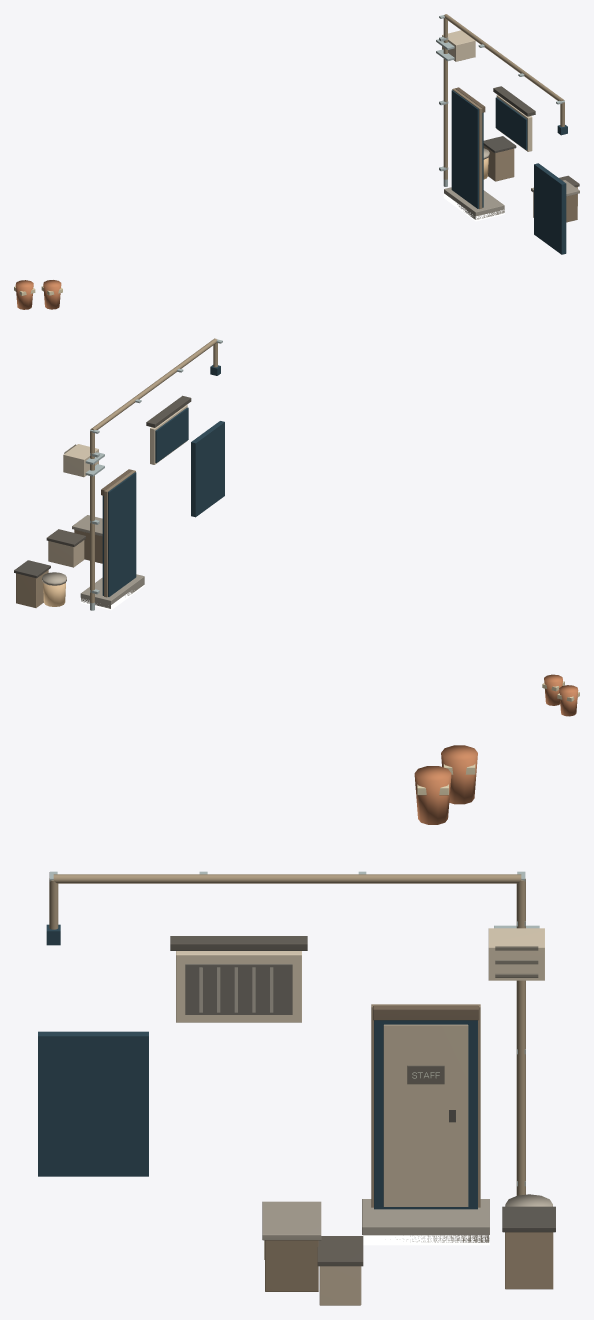
Rendered from side-alley.glb.
3 views of the same model, one above another, from view 1: azimuth 30°, elevation 25°; view 2: azimuth 150°, elevation 25°; view 3: azimuth 270°, elevation 25° (orthographic). The views are drawn at different scales.
Visible parts, largest first — view 1: Assembly | Side wall mounting backing.004, Web | SideAlley/0016.001, Web | SideAlley/0008.001, Web | SideAlley/0032.001, Web | SideAlley/0007.001, Web | SideAlley/0030.001, Web | SideAlley/0001.001, Assembly | Rear service box cantilever.002, Web | SideAlley/0015.001; view 2: Assembly | Side wall mounting backing.004, Web | SideAlley/0016.001, Web | SideAlley/0008.001, Web | SideAlley/0032.001, Web | SideAlley/0030.001, Web | SideAlley/0007.001, Web | SideAlley/0025.001, Web | SideAlley/0001.001, Assembly | Rear service box cantilever.002, Web | SideAlley/0015.001, Web | SideAlley/0028.001; view 3: Assembly | Side wall mounting backing.004, Web | SideAlley/0002.001, Web | SideAlley/0016.001, Web | SideAlley/0008.001, Web | SideAlley/0009.001, Web | SideAlley/0007.001, Web | SideAlley/0032.001, Web | SideAlley/0030.001, Web | SideAlley/0023.001, Web | SideAlley/0024.001, Web | SideAlley/0015.001, Web | SideAlley/0025.001 (+7 smaller).
Boxes of the visible parts, x1=… form: Assembly | Side wall mounting backing.004: x1=451, y1=90, x2=567, y2=254; Web | SideAlley/0016.001: x1=443, y1=14, x2=564, y2=179; Web | SideAlley/0008.001: x1=442, y1=30, x2=532, y2=151; Web | SideAlley/0032.001: x1=15, y1=280, x2=61, y2=309; Web | SideAlley/0007.001: x1=444, y1=187, x2=504, y2=219; Web | SideAlley/0030.001: x1=483, y1=145, x2=514, y2=181; Web | SideAlley/0001.001: x1=452, y1=88, x2=482, y2=208; Assembly | Rear service box cantilever.002: x1=436, y1=15, x2=564, y2=186; Web | SideAlley/0015.001: x1=493, y1=86, x2=535, y2=116; Assembly | Side wall mounting backing.004: x1=102, y1=365, x2=224, y2=596; Web | SideAlley/0016.001: x1=90, y1=338, x2=217, y2=603; Web | SideAlley/0008.001: x1=63, y1=405, x2=187, y2=477; Web | SideAlley/0032.001: x1=544, y1=674, x2=578, y2=716; Web | SideAlley/0030.001: x1=16, y1=570, x2=48, y2=607; Web | SideAlley/0007.001: x1=80, y1=574, x2=144, y2=608; Web | SideAlley/0025.001: x1=48, y1=540, x2=84, y2=567; Web | SideAlley/0001.001: x1=104, y1=470, x2=135, y2=597; Assembly | Rear service box cantilever.002: x1=85, y1=339, x2=222, y2=610; Web | SideAlley/0015.001: x1=146, y1=395, x2=191, y2=427; Web | SideAlley/0028.001: x1=43, y1=582, x2=65, y2=606; Assembly | Side wall mounting backing.004: x1=38, y1=924, x2=477, y2=1209; Web | SideAlley/0002.001: x1=383, y1=1024, x2=468, y2=1206; Web | SideAlley/0016.001: x1=49, y1=874, x2=525, y2=1195; Web | SideAlley/0008.001: x1=176, y1=928, x2=544, y2=1022; Web | SideAlley/0009.001: x1=185, y1=964, x2=292, y2=1014; Web | SideAlley/0007.001: x1=362, y1=1199, x2=489, y2=1242; Web | SideAlley/0032.001: x1=414, y1=745, x2=477, y2=824; Web | SideAlley/0030.001: x1=505, y1=1232, x2=553, y2=1289; Web | SideAlley/0023.001: x1=265, y1=1240, x2=318, y2=1291; Web | SideAlley/0024.001: x1=262, y1=1201, x2=321, y2=1240; Web | SideAlley/0015.001: x1=170, y1=936, x2=307, y2=950; Web | SideAlley/0025.001: x1=319, y1=1266, x2=361, y2=1305.
Bounding box in the file's own units: 13.8 × 4.4 × 5.88.
